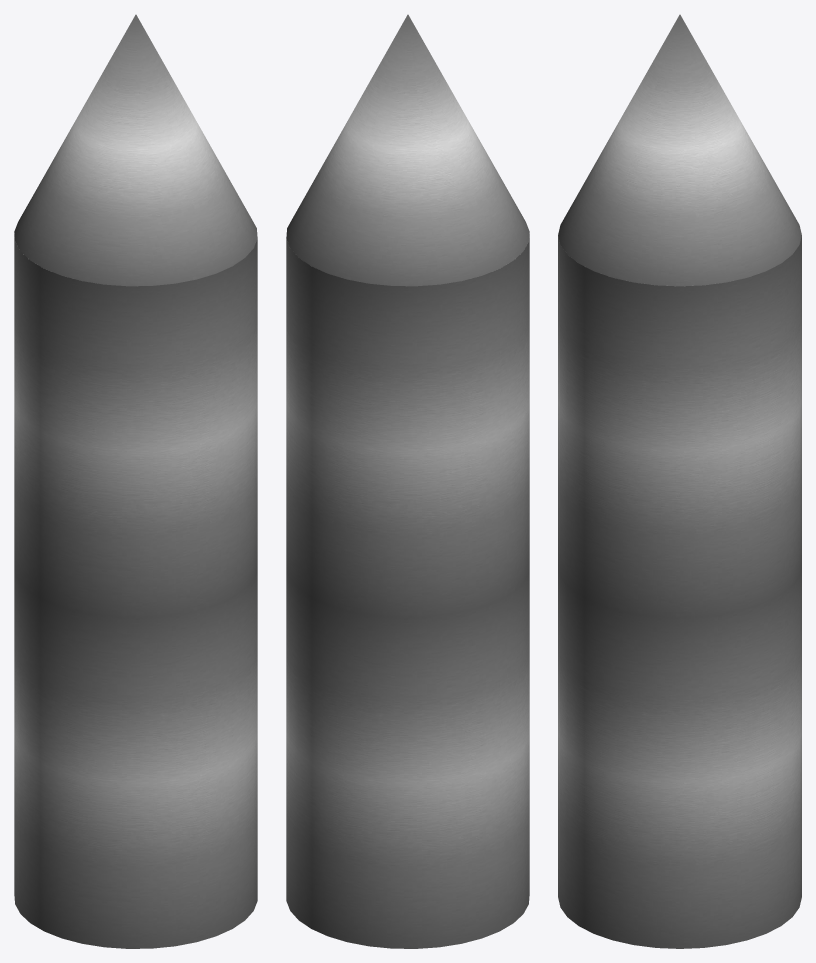
The model's file is Spike.fbx.
3 renders of one model, left to right at view 1: azimuth 30°, elevation 25°; view 2: azimuth 150°, elevation 25°; view 3: azimuth 270°, elevation 25°, orthographic.
Visible parts, largest first — view 1: Cylinder, Spike; view 2: Cylinder, Spike; view 3: Cylinder, Spike.
Part boxes in pixels (x1=…): Cylinder: x1=14, y1=232, x2=257, y2=948; Spike: x1=14, y1=14, x2=257, y2=286; Cylinder: x1=286, y1=232, x2=529, y2=948; Spike: x1=286, y1=14, x2=529, y2=286; Cylinder: x1=558, y1=235, x2=801, y2=948; Spike: x1=558, y1=14, x2=801, y2=286.
Bounding box in the file's own units: 200 × 800 × 200.
